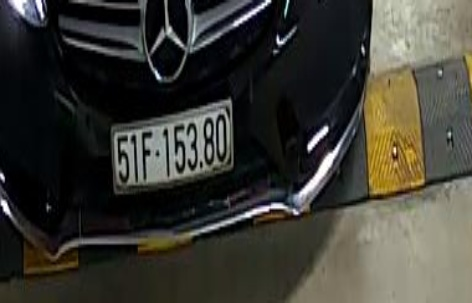plate: (102, 101, 242, 189)
